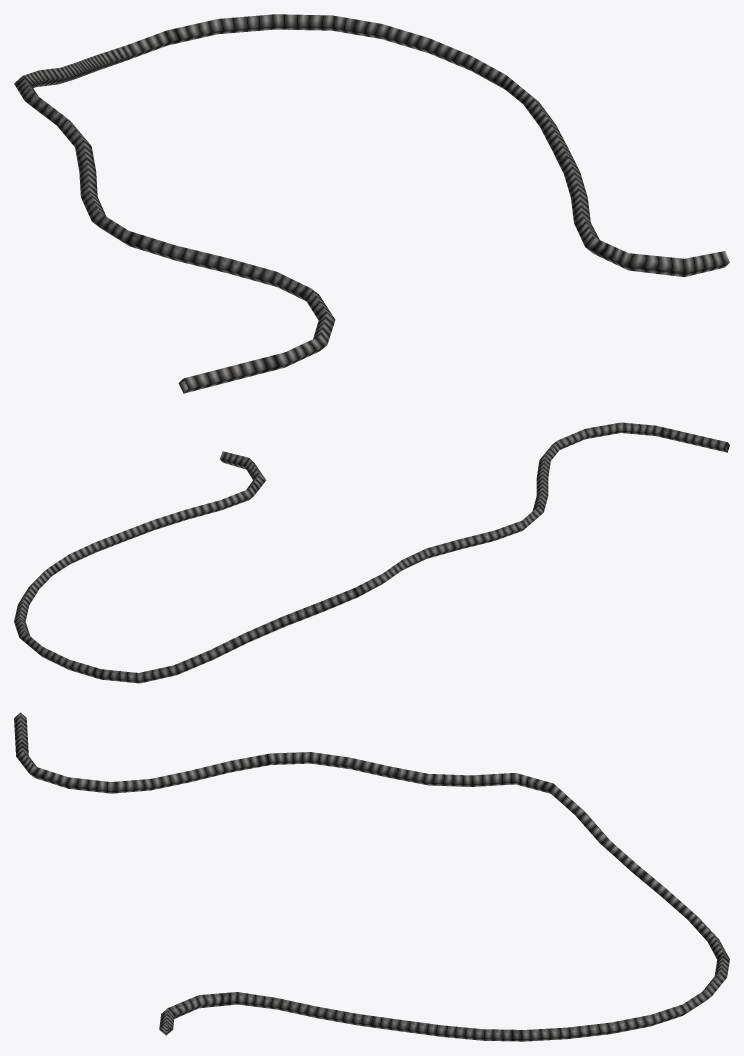
The model's file is Hose_D.fbx.
3 renders of one model, top to bottom at view 1: azimuth 30°, elevation 25°; view 2: azimuth 150°, elevation 25°; view 3: azimuth 270°, elevation 25°, orthographic. The views are drawn at different scales.
Visible parts, largest first — view 1: greyBoxRunAround_unity_1:GameObject; view 2: greyBoxRunAround_unity_1:GameObject; view 3: greyBoxRunAround_unity_1:GameObject.
Boxes of the visible parts, <box> form: greyBoxRunAround_unity_1:GameObject: <box>14,14,729,393</box>; greyBoxRunAround_unity_1:GameObject: <box>14,422,729,683</box>; greyBoxRunAround_unity_1:GameObject: <box>14,712,729,1041</box>.
Bounding box in the file's own units: 13.59 × 2.38 × 16.75.
